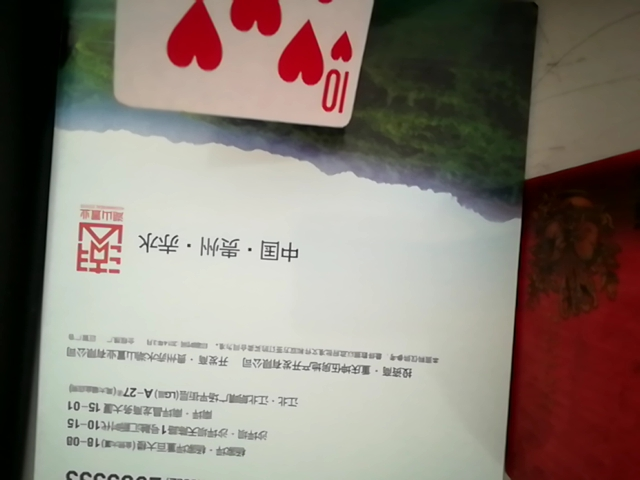hx 10: (101, 2, 394, 135)
